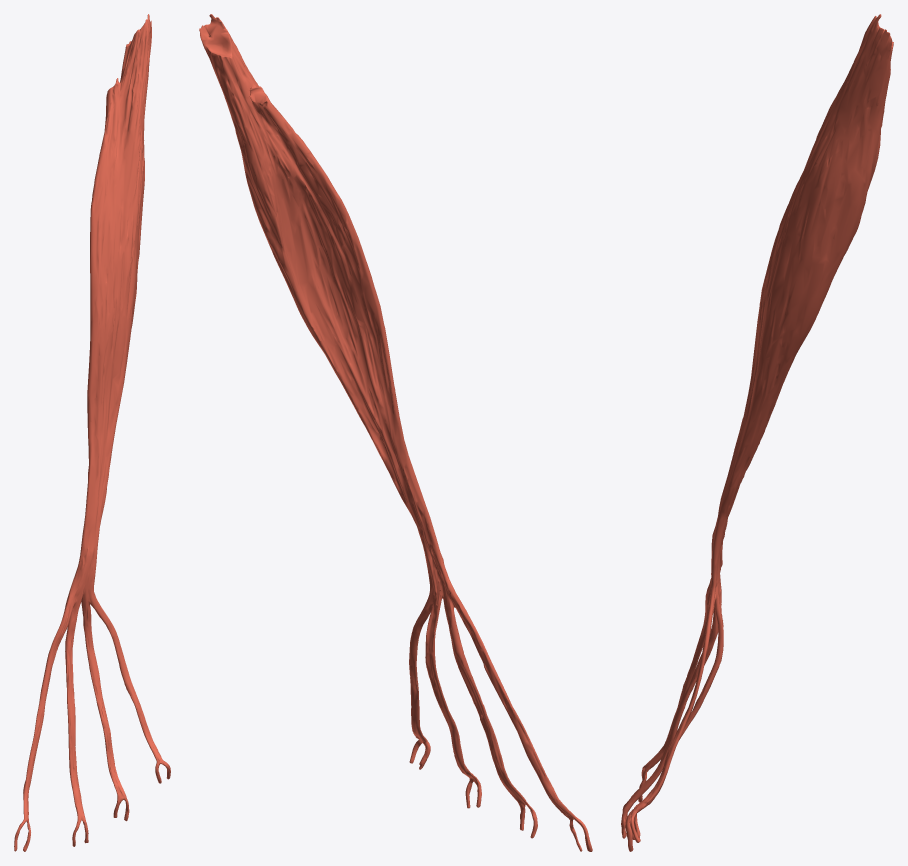
Rendered from flexor-digitorum-superficialis.glb.
The picture shows the model from 3 angles, left to right: view 1: azimuth 30°, elevation 25°; view 2: azimuth 150°, elevation 25°; view 3: azimuth 270°, elevation 25°; orthographic projection. The views are drawn at different scales.
Visible parts, largest first — view 1: Flexor digitorum superficialis.r; view 2: Flexor digitorum superficialis.r; view 3: Flexor digitorum superficialis.r.
Boxes of the visible parts, box(x1,y1,x2,y2) form: Flexor digitorum superficialis.r: box(14, 14, 170, 851); Flexor digitorum superficialis.r: box(199, 14, 592, 851); Flexor digitorum superficialis.r: box(621, 14, 893, 851).
Bounding box in the file's own units: 0.132 × 0.3897 × 0.1037.
